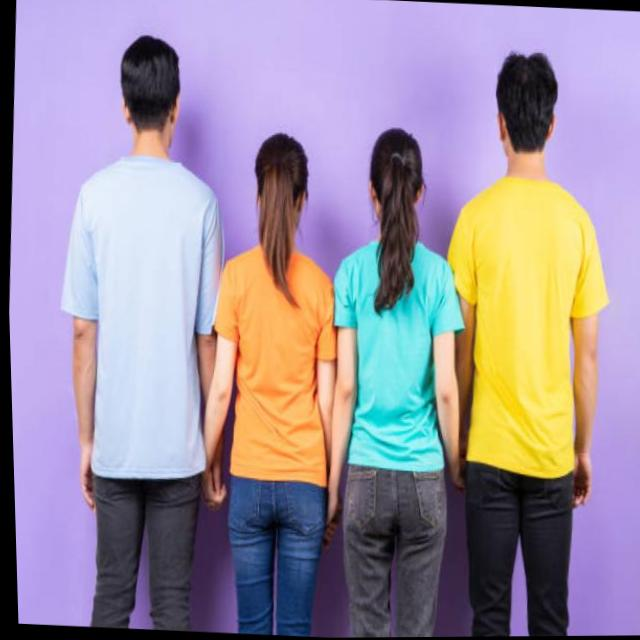no helmet: (484, 44, 576, 171), (239, 125, 320, 256), (109, 32, 190, 149), (354, 125, 431, 243)
